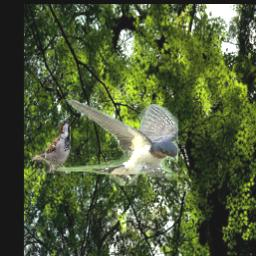Sparrow: (33, 116, 71, 174)
Swallow: (57, 98, 178, 186)
